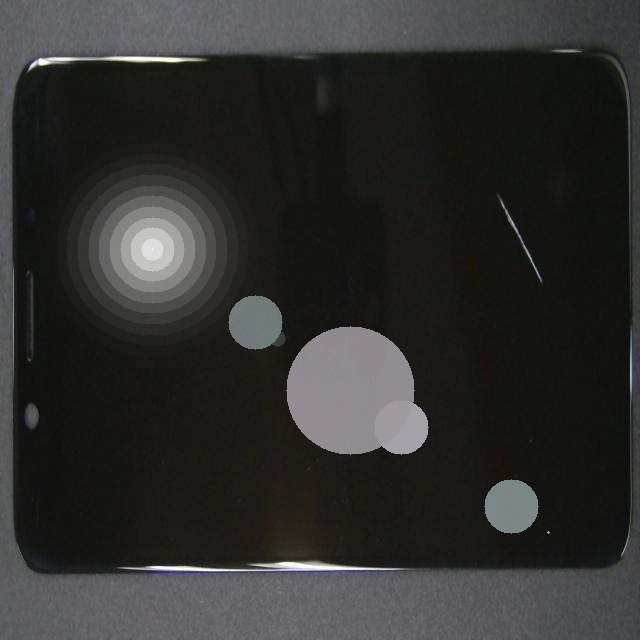scratch: (310, 181, 640, 360)
